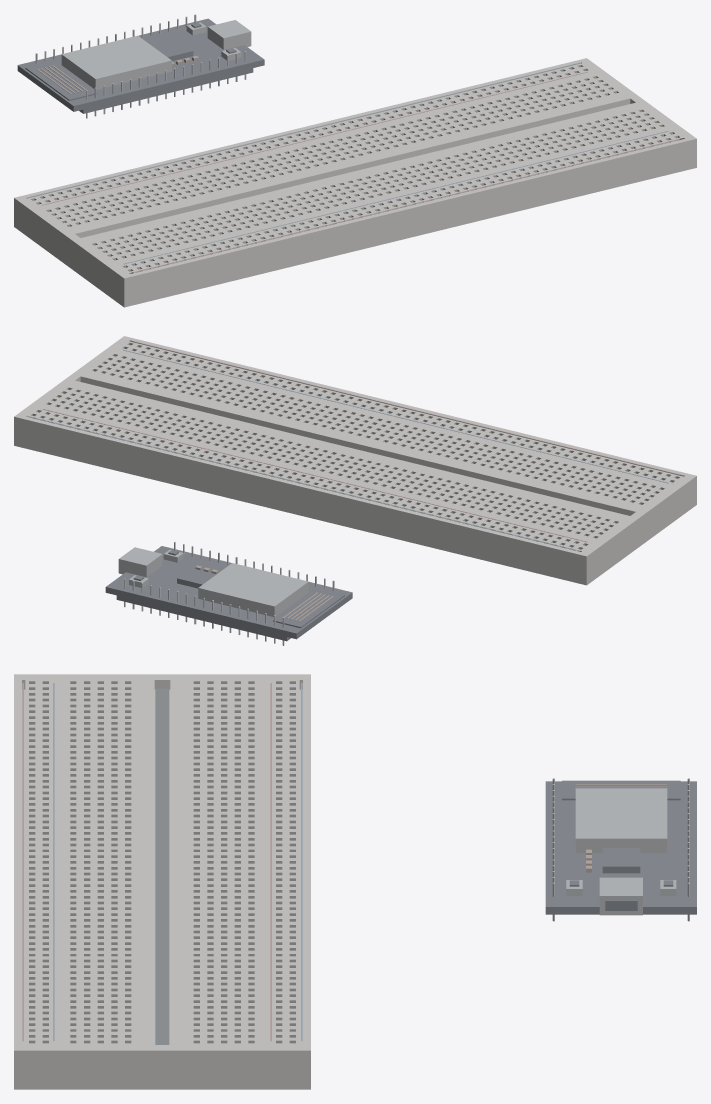
Rendered from step-1.glb.
3 views of the same model, one above another, from view 1: azimuth 30°, elevation 25°; view 2: azimuth 150°, elevation 25°; view 3: azimuth 270°, elevation 25° (orthographic). The views are drawn at different scales.
Visible parts, largest first — view 1: breadboard__mesh, uno__mesh; view 2: breadboard__mesh, uno__mesh; view 3: breadboard__mesh, uno__mesh.
Part boxes in pixels (x1,y1,x2,y2): breadboard__mesh: (14,58,696,307); uno__mesh: (17,14,264,118); breadboard__mesh: (14,336,696,585); uno__mesh: (105,542,352,645); breadboard__mesh: (14,674,310,1089); uno__mesh: (545,778,696,921).
Bounding box in the file's own units: 0.165 × 0.009 × 0.1265.
